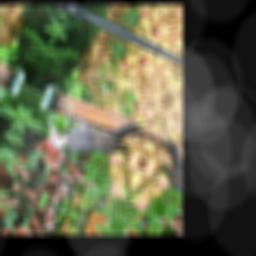Woodpecker: (38, 83, 150, 191)
